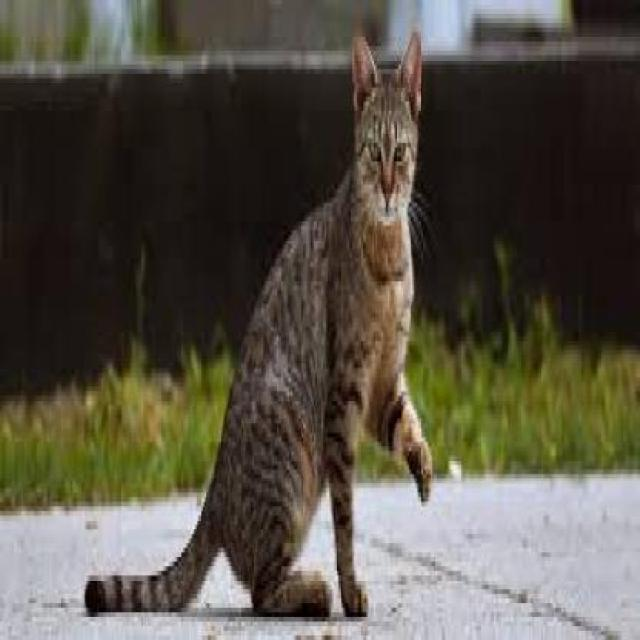cat: (240, 9, 446, 640)
